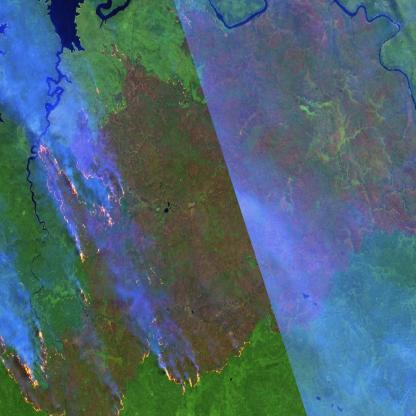fire: (25, 128, 129, 312), (0, 334, 153, 416), (155, 327, 253, 400)
